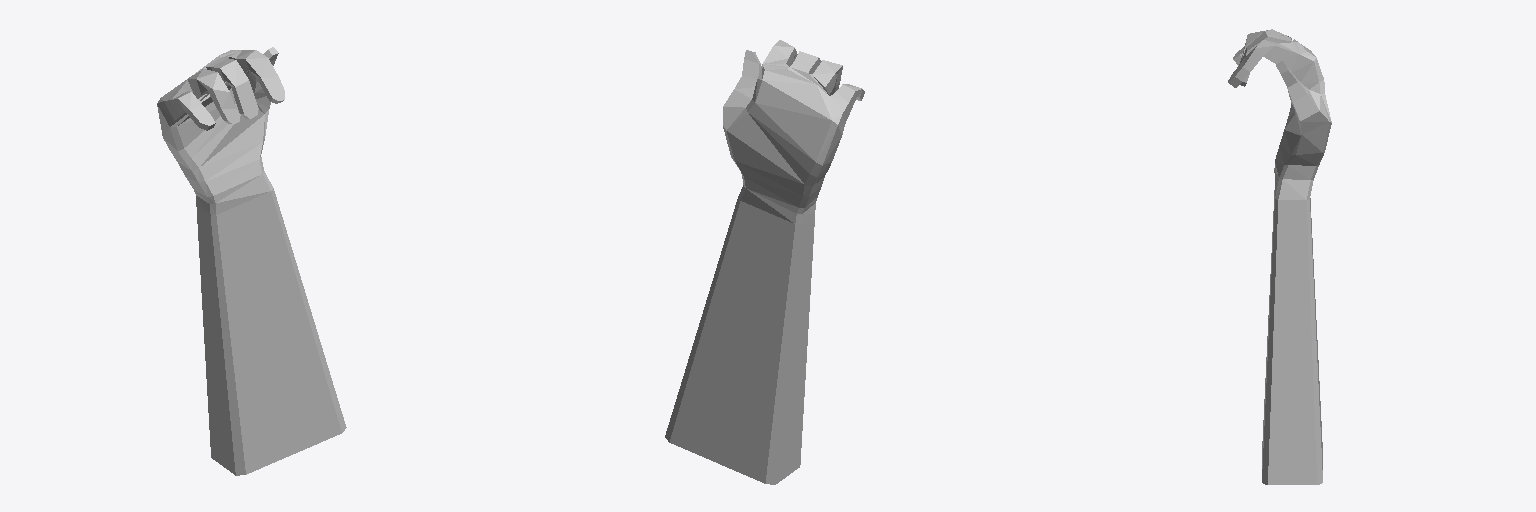
File: hand_anim9.obj
3 views of the same model, side by side, from view 1: azimuth 30°, elevation 25°; view 2: azimuth 150°, elevation 25°; view 3: azimuth 270°, elevation 25° (orthographic).
Parts seen in each view (by area): view 1: Cube.001; view 2: Cube.001; view 3: Cube.001.
Boxes of the visible parts, x1=… form: Cube.001: x1=157, y1=47, x2=346, y2=475; Cube.001: x1=665, y1=40, x2=864, y2=484; Cube.001: x1=1228, y1=29, x2=1331, y2=484.
Size of the model in its own units: 1.24 by 2.93 by 0.66.